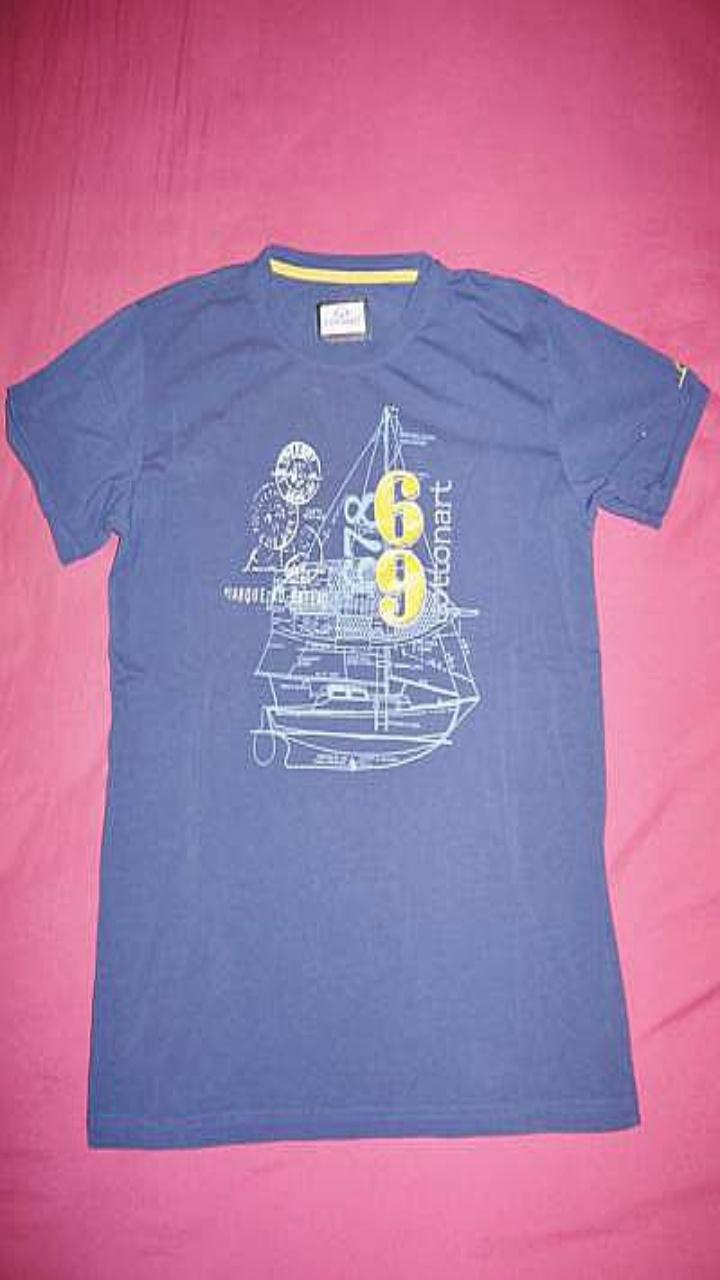T-Shirt: (6, 244, 708, 1147)
